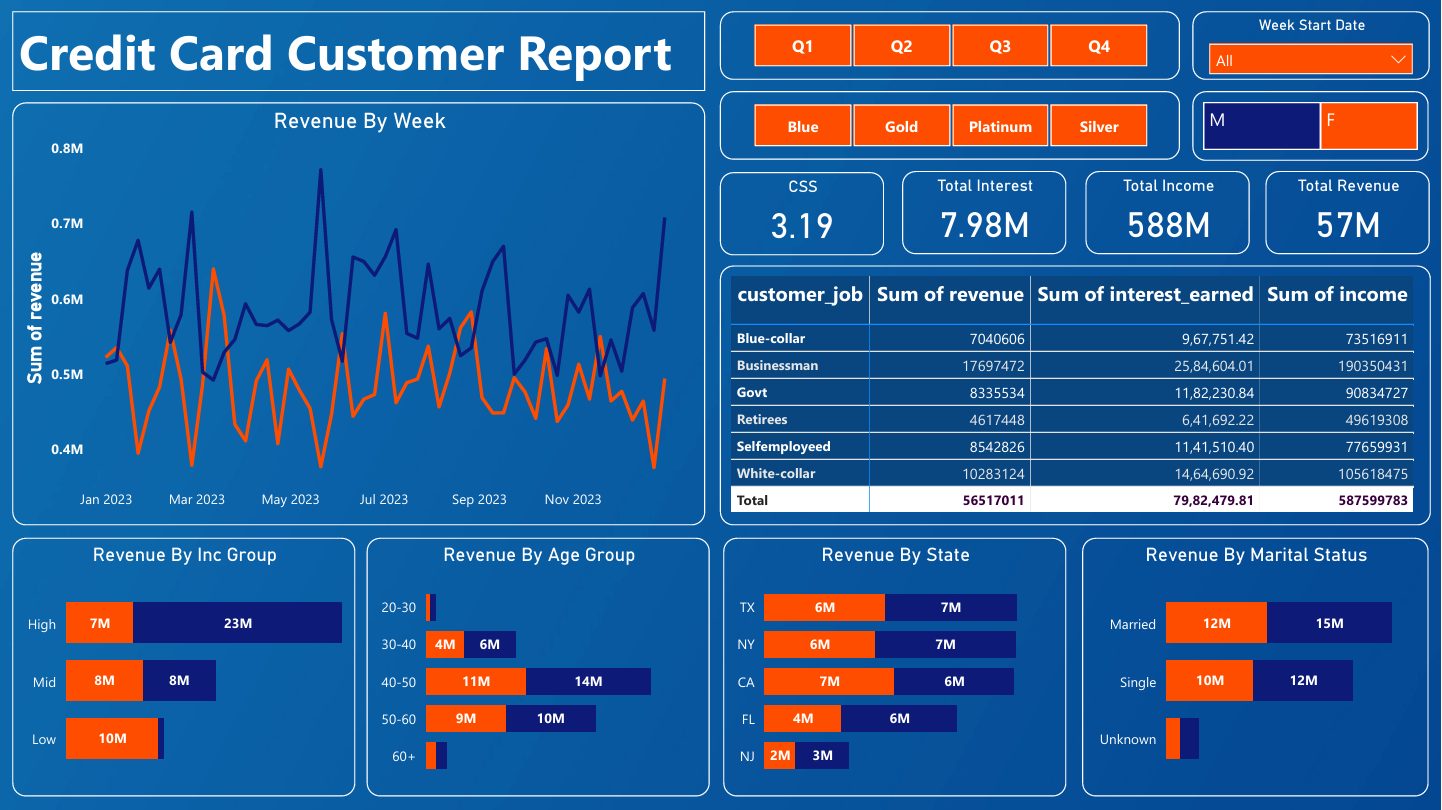

The dashboard page shown, as its layout file describes it:
{"tool":"powerbi","page":{"name":"CC Customer","canvas":[1280,720],"ordinal":1},"visuals":[{"type":"textbox","box":[9.7,9.7,616.5,71.2],"z":0},{"type":"barChart","title":"Revenue By Inc Group","fields":{"Y":["Sum(public cc_detail.revenue)"],"Category":["public cust_detail.cust_income_group"],"Series":["public cust_detail.gender"]},"box":[9.6,477.5,305,230.5],"z":1000},{"type":"pivotTable","fields":{"Values":["Sum(public cc_detail.revenue)","Sum(public cc_detail.interest_earned)","Sum(public cust_detail.income)"],"Rows":["public cust_detail.customer_job"]},"box":[639.5,236,631.2,230.5],"z":2000},{"type":"card","title":"Total Revenue","fields":{"Values":["Sum(public cc_detail.revenue)"]},"box":[1124.4,152,146,73.6],"z":3000},{"type":"card","title":"Total Income","fields":{"Values":["Sum(public cust_detail.income)"]},"box":[964,152,146,74],"z":4000},{"type":"card","title":"CSS","fields":{"Values":["Avg(public cust_detail.cust_satisfaction_score)"]},"box":[639.4,153.2,146,73.6],"z":5000},{"type":"card","title":"Total Interest","fields":{"Values":["Sum(public cc_detail.interest_earned)"]},"box":[801,152,146,74],"z":6000},{"type":"slicer","fields":{"Values":["public cc_detail.qtr"]},"box":[639.4,9.7,409,61.5],"z":7000},{"type":"slicer","title":"Week Start Date","fields":{"Values":["public cc_detail.week_start_date"]},"box":[1059.3,9.7,211.1,61.5],"z":8000},{"type":"slicer","fields":{"Values":["public cc_detail.card_category"]},"box":[639.4,80.8,409,61.5],"z":9000},{"type":"lineChart","title":"Revenue By Week","fields":{"Y":["Sum(public cc_detail.revenue)"],"Series":["public cust_detail.gender"],"Category":["public cc_detail.week_start_date.Variation.Date Hierarchy.Year","public cc_detail.week_start_date.Variation.Date Hierarchy.Month","public cc_detail.week_start_date.Variation.Date Hierarchy.Day"]},"box":[9.6,90.6,616.1,376],"z":10000},{"type":"barChart","title":"Revenue By Age Group","fields":{"Y":["Sum(public cc_detail.revenue)"],"Category":["public cust_detail.cust_age_group"],"Series":["public cust_detail.gender"]},"box":[325.2,477.5,305,230.5],"z":11000},{"type":"barChart","title":"Revenue By State","fields":{"Y":["Sum(public cc_detail.revenue)"],"Category":["public cust_detail.state_cd"],"Series":["public cust_detail.gender"]},"box":[642,477.5,305,230.5],"z":12000},{"type":"barChart","title":"Revenue By Marital Status","fields":{"Y":["Sum(public cc_detail.revenue)"],"Category":["public cust_detail.marital_status"],"Series":["public cust_detail.gender"]},"box":[960.6,477.5,308.7,230.5],"z":13000},{"type":"treemap","fields":{"Group":["public cust_detail.gender"],"Values":["Sum(public cc_detail.revenue)"]},"box":[1059.4,81,209.9,61.7],"z":14000}]}

Visuals, with their boxes in screenshot pixels (x1, y1, x2, y2), scaled from the page's 1280x720 canvas onto the 1442x810 screenshot:
textbox: [11,11,705,91]
"Revenue By Inc Group" barChart: [11,537,354,796]
pivotTable - Sum(public cc_detail.revenue) x Sum(public cc_detail.interest_earned): [720,266,1432,525]
"Total Revenue" card: [1267,171,1431,254]
"Total Income" card: [1086,171,1250,254]
"CSS" card: [720,172,885,255]
"Total Interest" card: [902,171,1067,254]
slicer - public cc_detail.qtr: [720,11,1181,80]
"Week Start Date" slicer: [1193,11,1431,80]
slicer - public cc_detail.card_category: [720,91,1181,160]
"Revenue By Week" lineChart: [11,102,705,525]
"Revenue By Age Group" barChart: [366,537,710,796]
"Revenue By State" barChart: [723,537,1067,796]
"Revenue By Marital Status" barChart: [1082,537,1430,796]
treemap - public cust_detail.gender x Sum(public cc_detail.revenue): [1193,91,1430,161]
